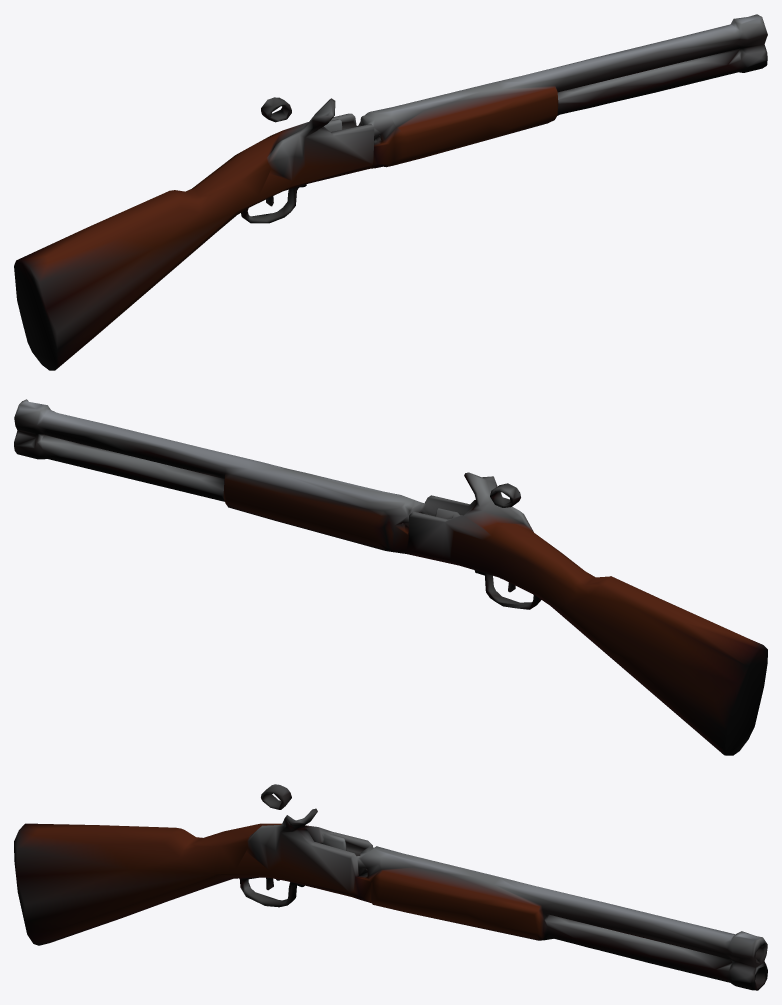
Rendered from gen3d-musket-lod1.glb.
3 renders of one model, top to bottom at view 1: azimuth 30°, elevation 25°; view 2: azimuth 150°, elevation 25°; view 3: azimuth 330°, elevation 25°, orthographic.
Visible parts, largest first — view 1: part_0; view 2: part_0; view 3: part_0.
Part boxes in pixels (box(x1,y1,x2,y2)): part_0: box(14, 14, 767, 370); part_0: box(14, 399, 767, 755); part_0: box(14, 784, 767, 990).
Size of the model in its own units: 3.64 by 1 by 0.3066.
